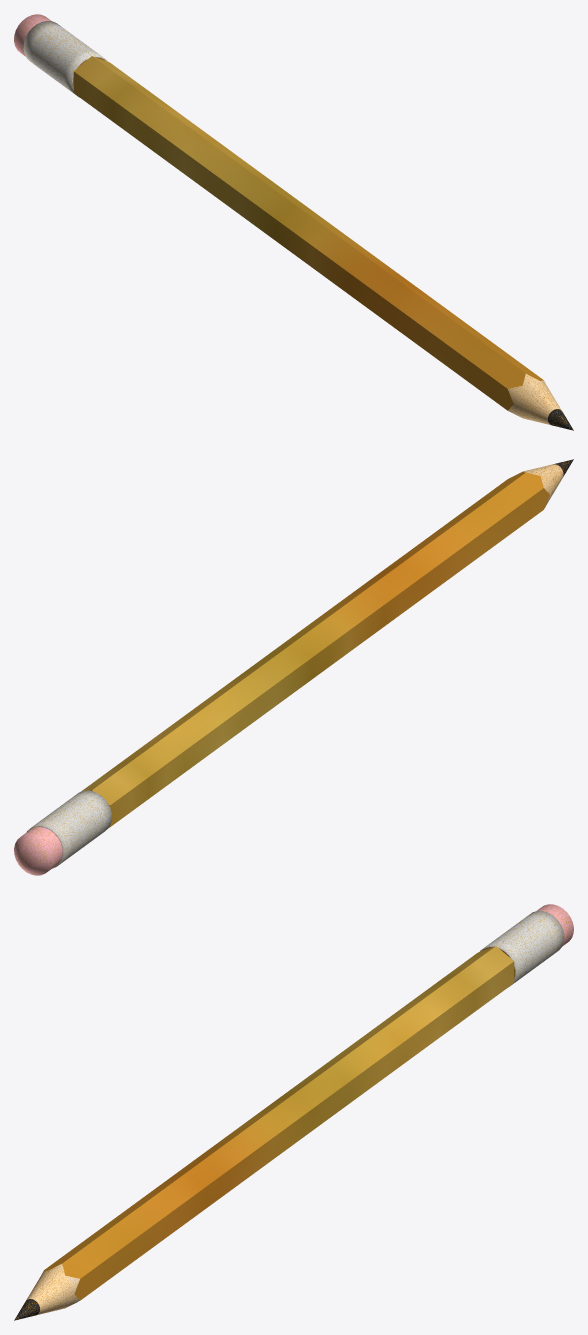
Rendered from Pencil.dae.
3 renders of one model, top to bottom at view 1: azimuth 30°, elevation 25°; view 2: azimuth 150°, elevation 25°; view 3: azimuth 330°, elevation 25°, orthographic.
Visible parts, largest first — view 1: group_0 (×4); view 2: group_0 (×4); view 3: group_0 (×4).
Boxes of the visible parts, <box> form: group_0 (×4): <box>14,14,561,424</box>; group_0 (×4): <box>14,464,563,875</box>; group_0 (×4): <box>26,904,573,1314</box>.
Size of the model in its own units: 0.242 by 5.66 by 0.25.
